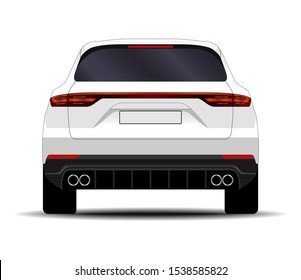car: (41, 38, 260, 218)
